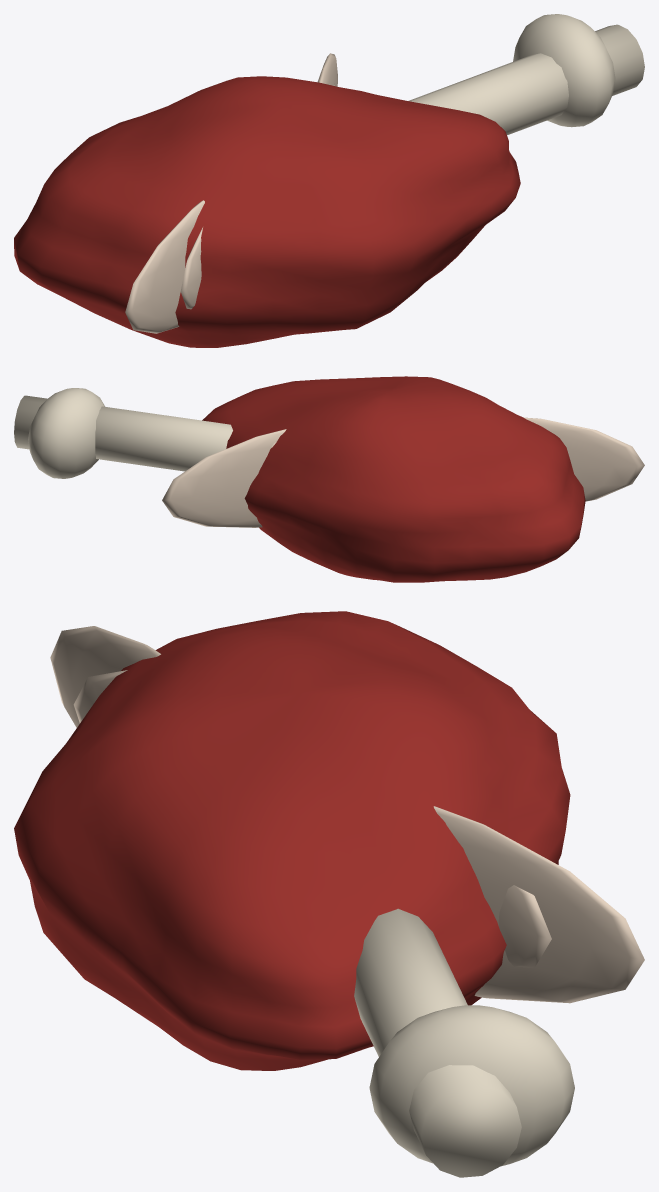
File: meat.glb
3 renders of one model, top to bottom at view 1: azimuth 30°, elevation 25°; view 2: azimuth 150°, elevation 25°; view 3: azimuth 270°, elevation 25°, orthographic. The views are drawn at different scales.
Visible parts, largest first — view 1: meat.001, bone.001, knob.002, fat.003, fat.004; view 2: meat.001, bone.001, fat.006, knob.002, fat.003; view 3: meat.001, bone.001, fat.006, knob.002, fat.003, fat.005, fat.004.
Part boxes in pixels (bbox=[...]): meat.001: bbox=[14, 76, 520, 347]; bone.001: bbox=[408, 24, 644, 135]; knob.002: bbox=[513, 14, 615, 127]; fat.003: bbox=[125, 200, 204, 333]; fat.004: bbox=[180, 227, 202, 309]; meat.001: bbox=[202, 376, 585, 582]; bone.001: bbox=[14, 395, 232, 471]; fat.006: bbox=[162, 429, 286, 527]; knob.002: bbox=[28, 388, 104, 478]; fat.003: bbox=[524, 417, 644, 501]; meat.001: bbox=[14, 611, 570, 1070]; bone.001: bbox=[354, 908, 521, 1177]; fat.006: bbox=[433, 806, 644, 1003]; knob.002: bbox=[369, 1005, 574, 1166]; fat.003: bbox=[50, 626, 160, 727]; fat.005: bbox=[498, 885, 551, 967]; fat.004: bbox=[73, 670, 127, 722].
Size of the model in its own units: 0.4006 by 0.1261 by 0.2209.
